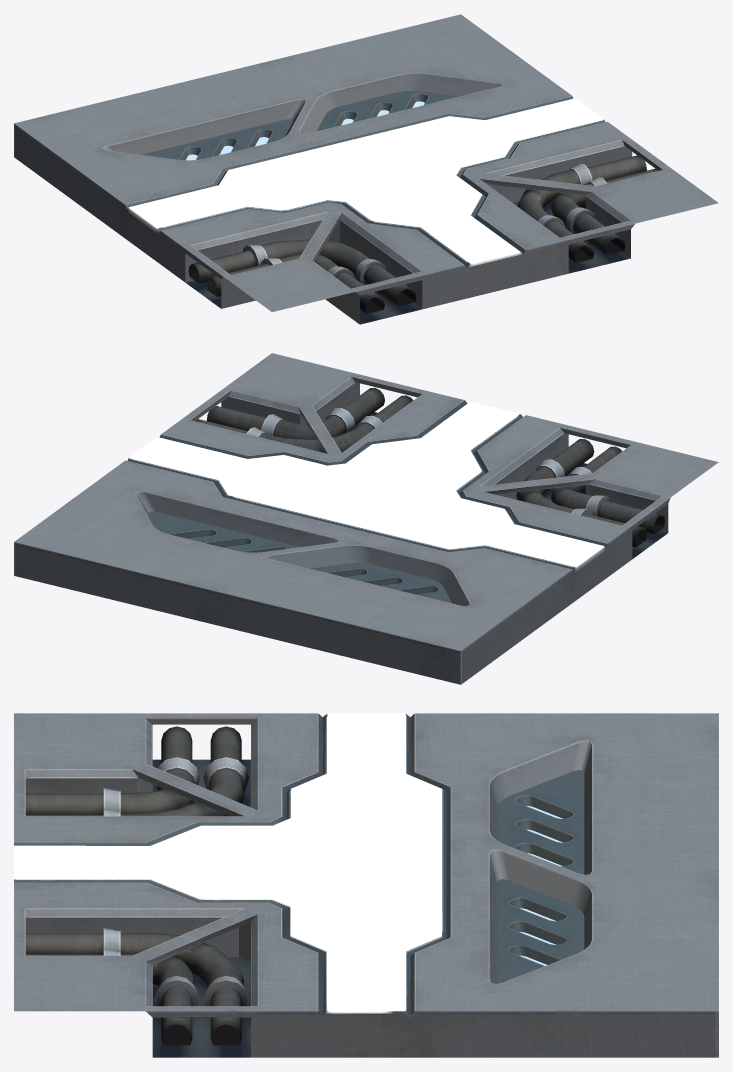
The model's file is DS_SM012_Scifi_Room_FloorPipeT_01.fbx.
The picture shows the model from 3 angles, top to bottom: view 1: azimuth 30°, elevation 25°; view 2: azimuth 150°, elevation 25°; view 3: azimuth 270°, elevation 25°; orthographic projection. The views are drawn at different scales.
Visible parts, largest first — view 1: DS_SM012_Scifi_Room_FloorPipeT_01_LP; view 2: DS_SM012_Scifi_Room_FloorPipeT_01_LP; view 3: DS_SM012_Scifi_Room_FloorPipeT_01_LP.
Part boxes in pixels (x1,y1,x2,y2): DS_SM012_Scifi_Room_FloorPipeT_01_LP: (14,14,718,324); DS_SM012_Scifi_Room_FloorPipeT_01_LP: (14,353,718,684); DS_SM012_Scifi_Room_FloorPipeT_01_LP: (14,713,718,1057).
Size of what is drawn, in the model's own units: 400 by 28.95 by 400.
1 material, 1 textured.
